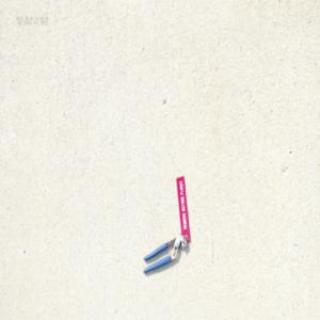LuggageTagtrack_idkeyframe: (176, 171, 190, 238)
Pliertrack_idkeyframe: (142, 232, 186, 273)
